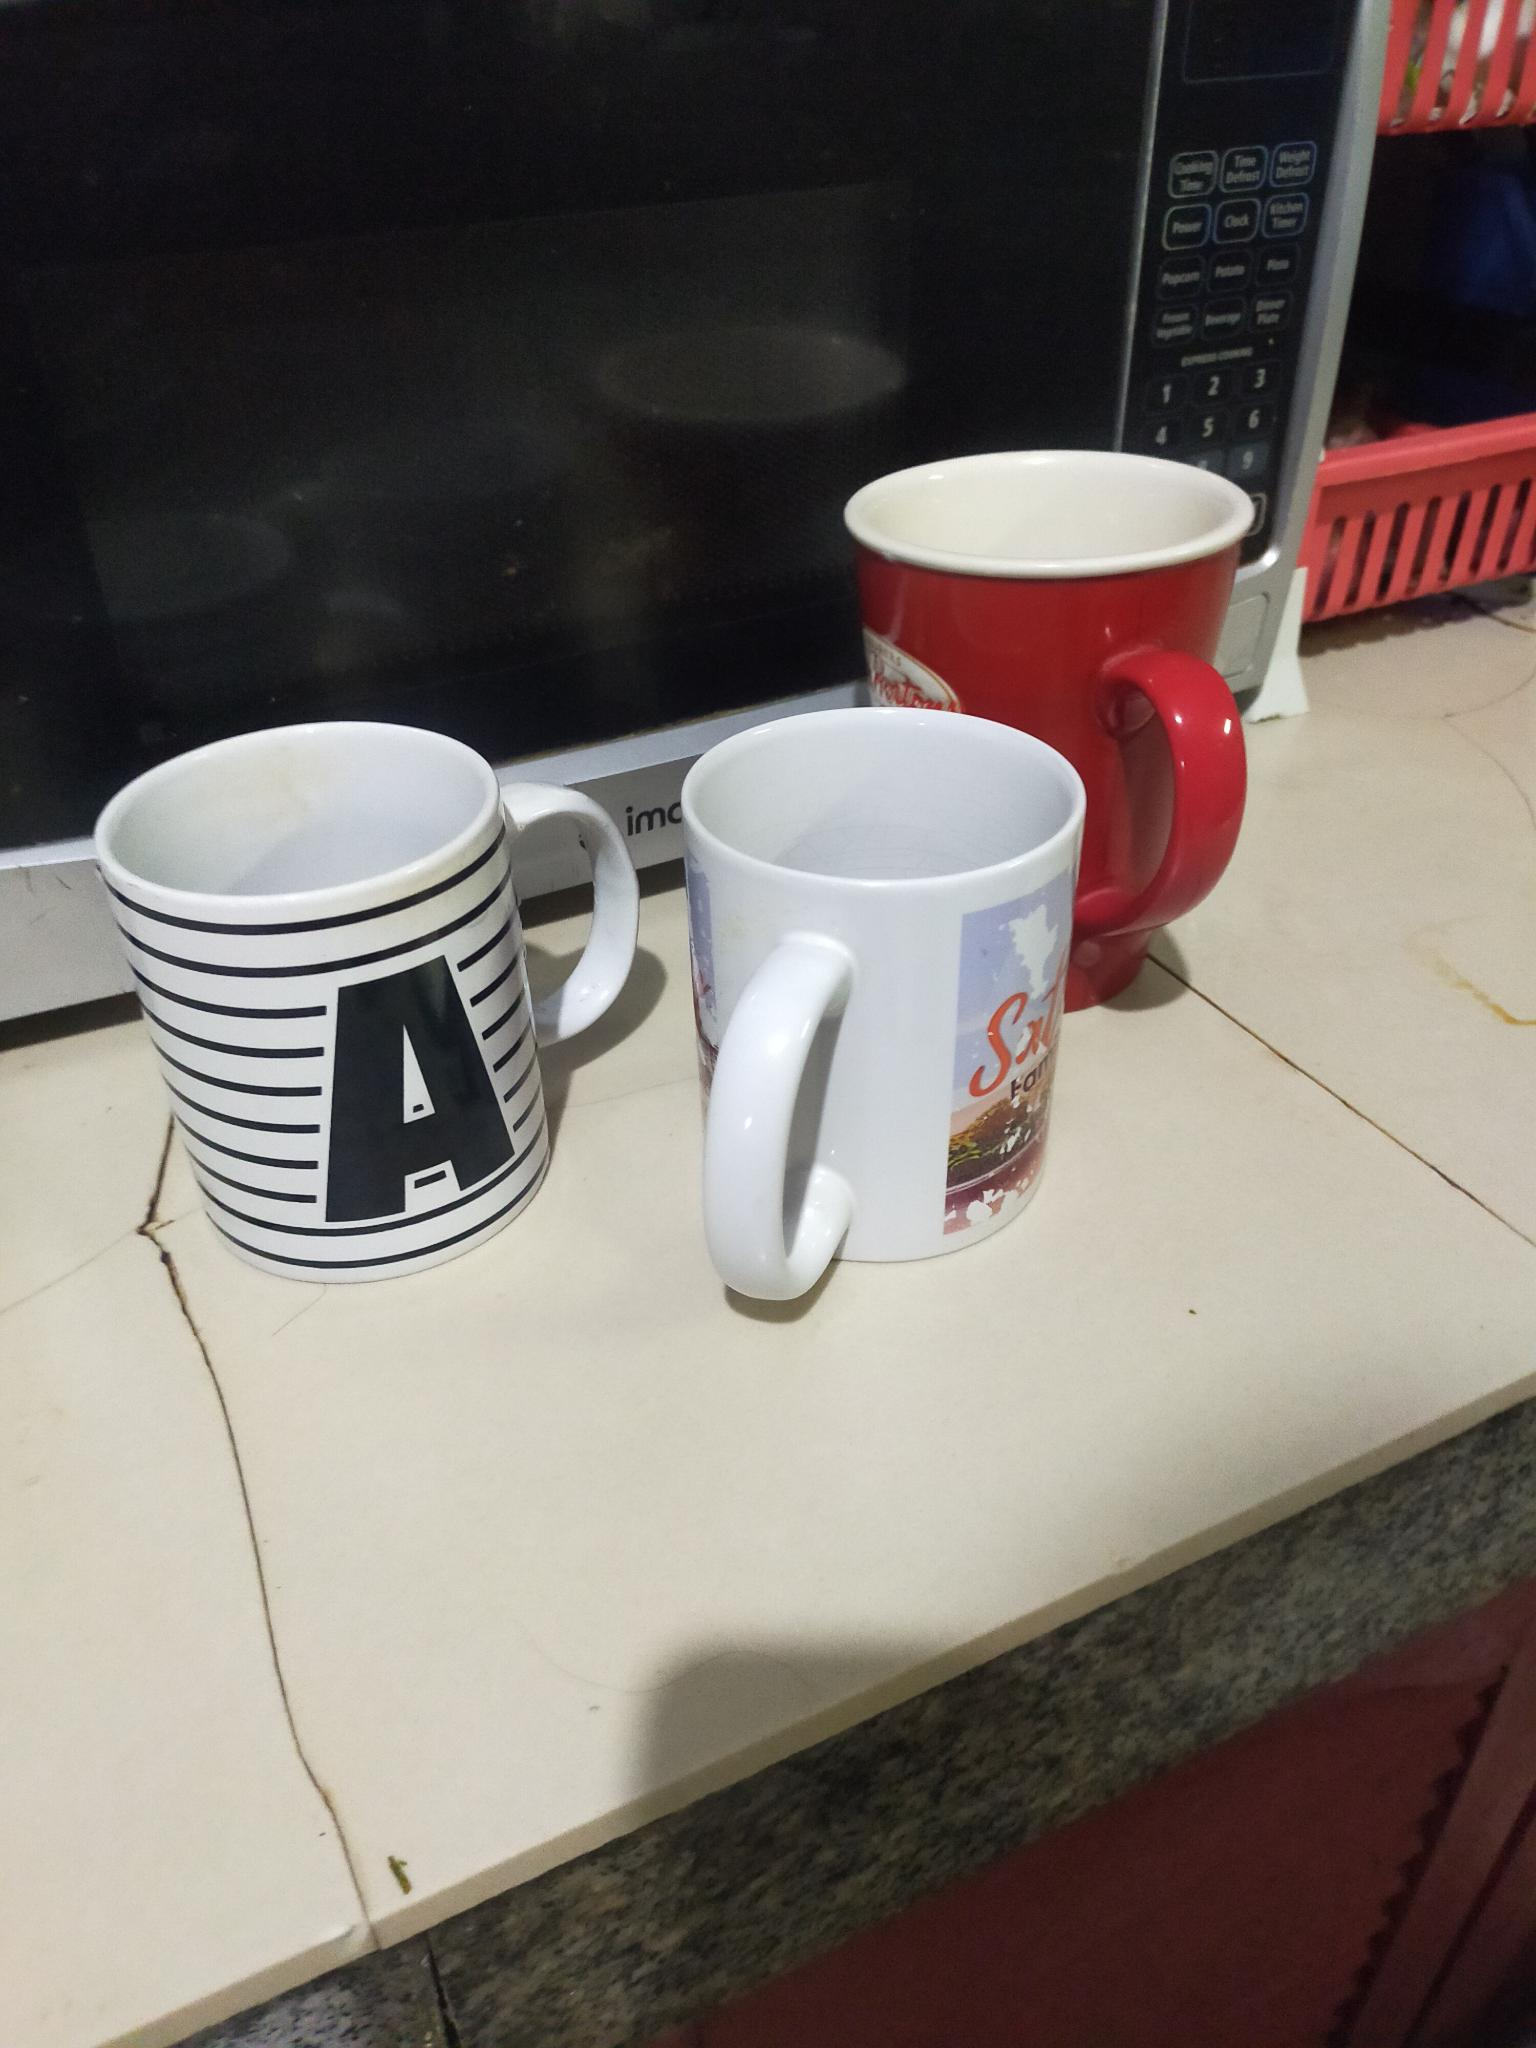Coffee Mug: (97, 718, 637, 1287), (684, 710, 1083, 1305), (850, 453, 1254, 1016)
